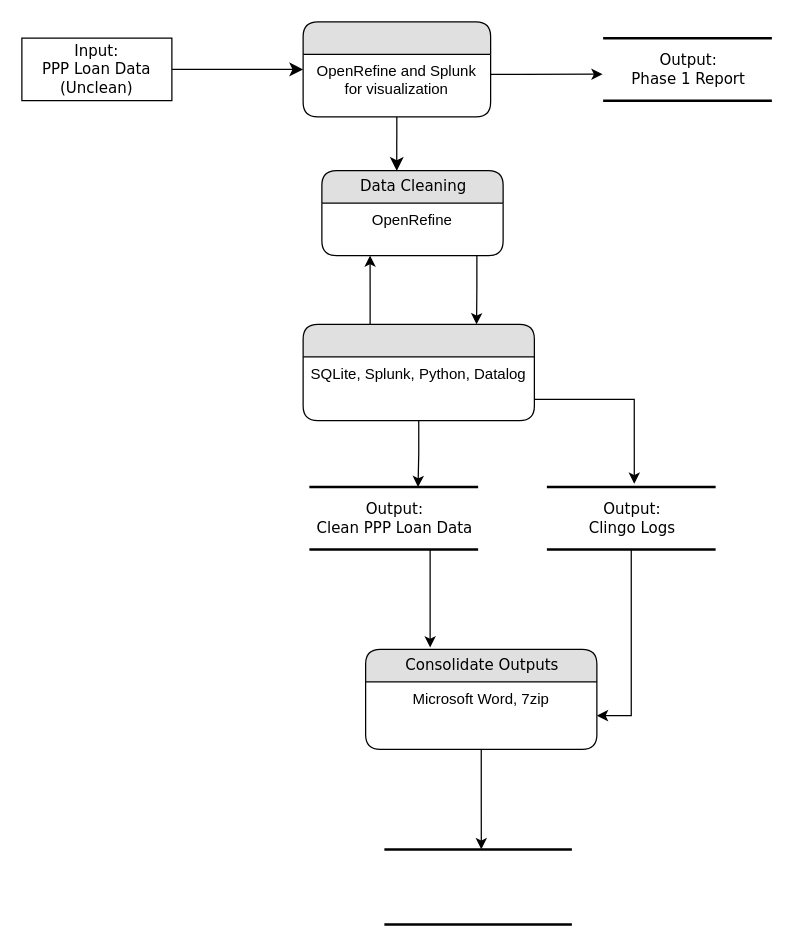
The diagram is 795 pixels wide and 948 high, and some of its shapes have lost their labels. Each missing label, with the box of its shape:
Data Profiling: (302, 21, 491, 117)
ICV Checks: (302, 323, 534, 421)
Output: Phase 2 Report and Supporting Material: (382, 848, 572, 925)
